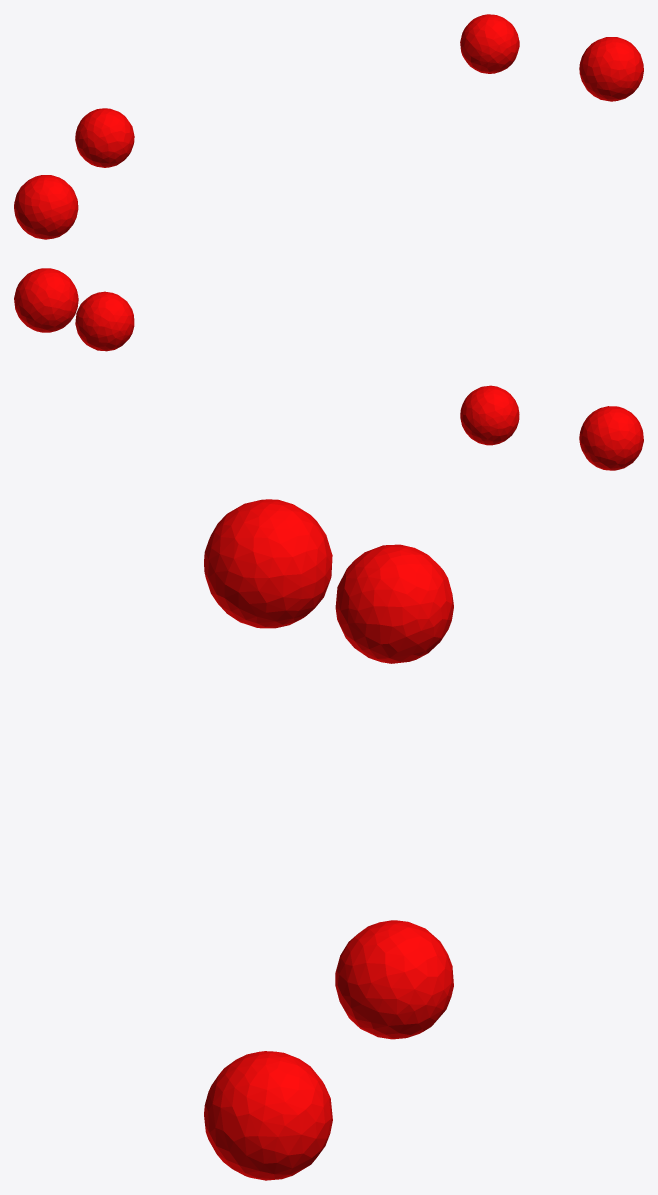
Rendered from eye.obj.
The picture shows the model from 3 angles, top to bottom: view 1: azimuth 30°, elevation 25°; view 2: azimuth 150°, elevation 25°; view 3: azimuth 270°, elevation 25°; orthographic projection. The views are drawn at different scales.
Visible parts, largest first — view 1: 目; view 2: 目; view 3: 目.
Boxes of the visible parts, x1=… form: 目: x1=14, y1=14, x2=643, y2=239; 目: x1=14, y1=268, x2=643, y2=470; 目: x1=204, y1=499, x2=453, y2=1180.
Size of the model in its own units: 1.84 by 0.2276 by 0.3203.
